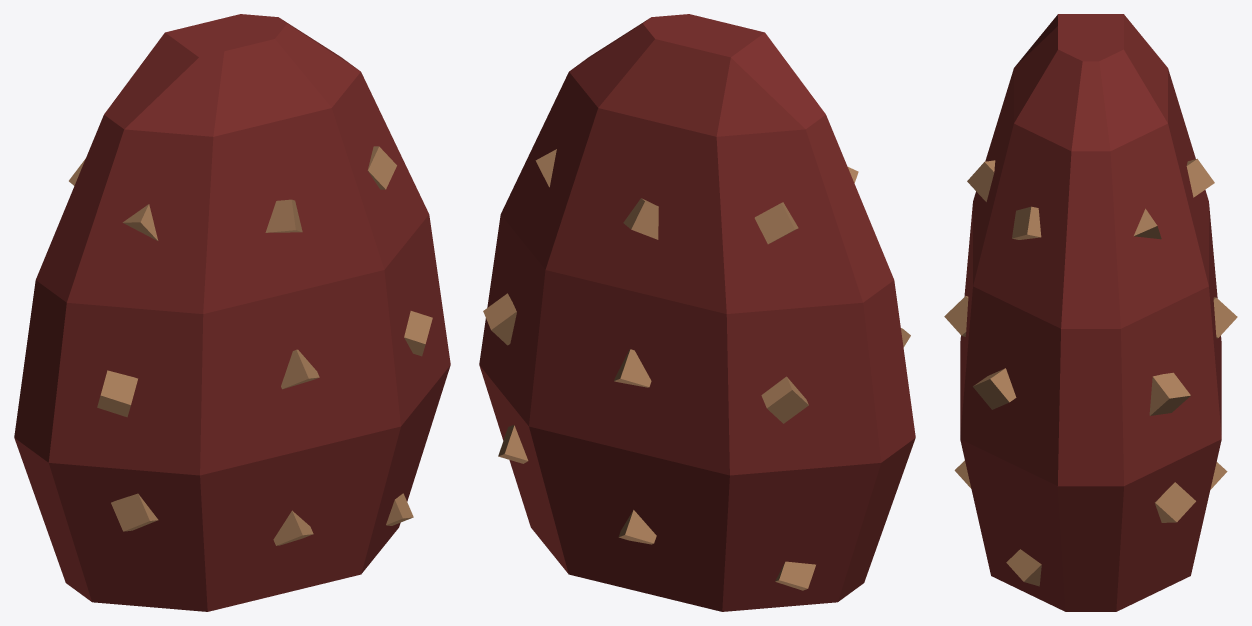
The model's file is Cactus_4_Red.fbx.
The picture shows the model from 3 angles, left to right: view 1: azimuth 30°, elevation 25°; view 2: azimuth 150°, elevation 25°; view 3: azimuth 270°, elevation 25°; orthographic projection. The views are drawn at different scales.
Parts seen in each view (by area): view 1: Cactus_4_Red_Part_1, Cactus_4_Red_Part_2; view 2: Cactus_4_Red_Part_1, Cactus_4_Red_Part_2; view 3: Cactus_4_Red_Part_1, Cactus_4_Red_Part_2.
Part boxes in pixels (box(x1,y1,x2,y2)): Cactus_4_Red_Part_1: box(14, 14, 450, 611); Cactus_4_Red_Part_2: box(69, 146, 432, 545); Cactus_4_Red_Part_1: box(479, 14, 915, 611); Cactus_4_Red_Part_2: box(483, 149, 910, 590); Cactus_4_Red_Part_1: box(960, 14, 1221, 611); Cactus_4_Red_Part_2: box(944, 158, 1237, 586).
Bounding box in the file's own units: 68.29 × 84.81 × 44.93.
